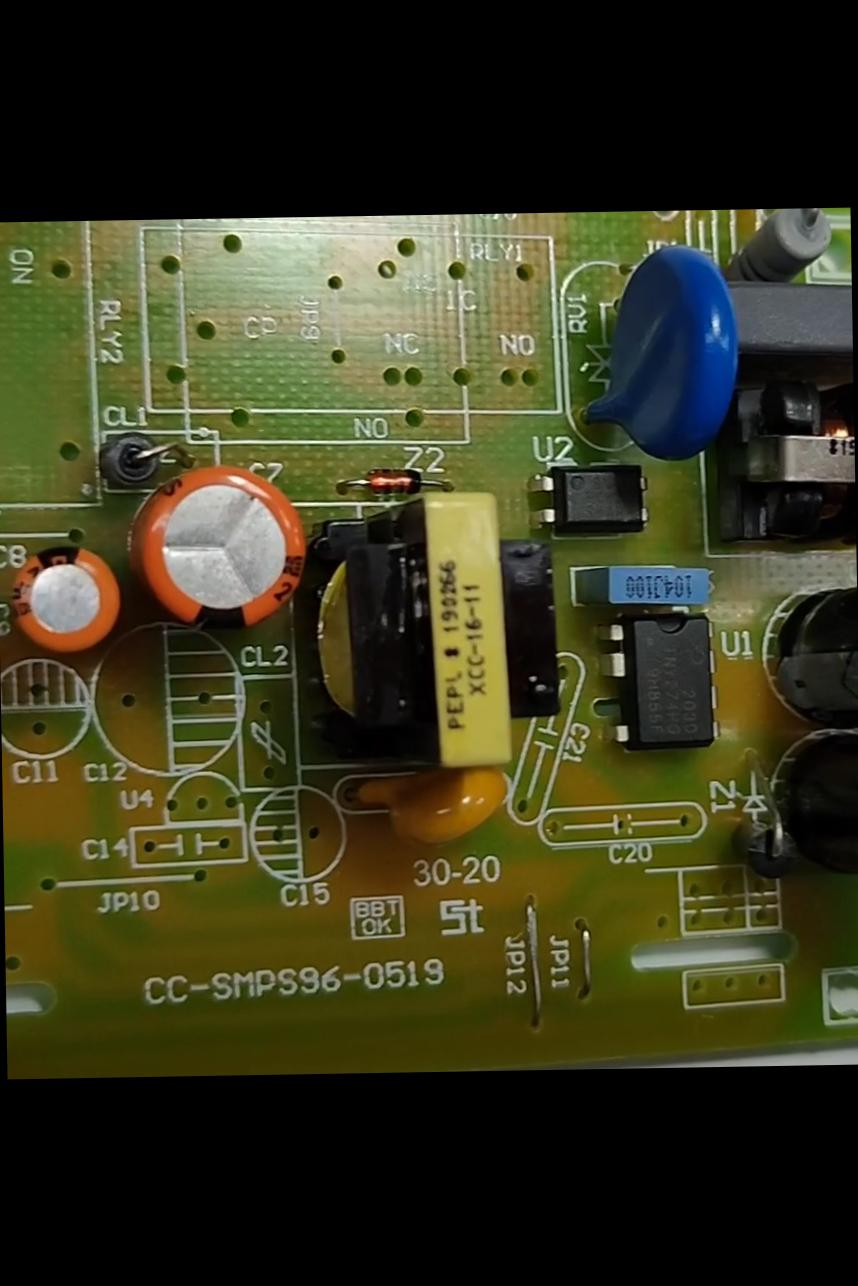Cap1: (121, 436, 324, 652)
Cap2: (0, 529, 133, 663)
Cap3: (752, 567, 857, 734)
Cap4: (733, 712, 857, 901)
MOSFET: (593, 593, 732, 759)
Mov: (572, 236, 748, 480)
Resistor: (740, 207, 836, 294)
Transformer: (283, 470, 564, 790), (700, 370, 856, 560)
